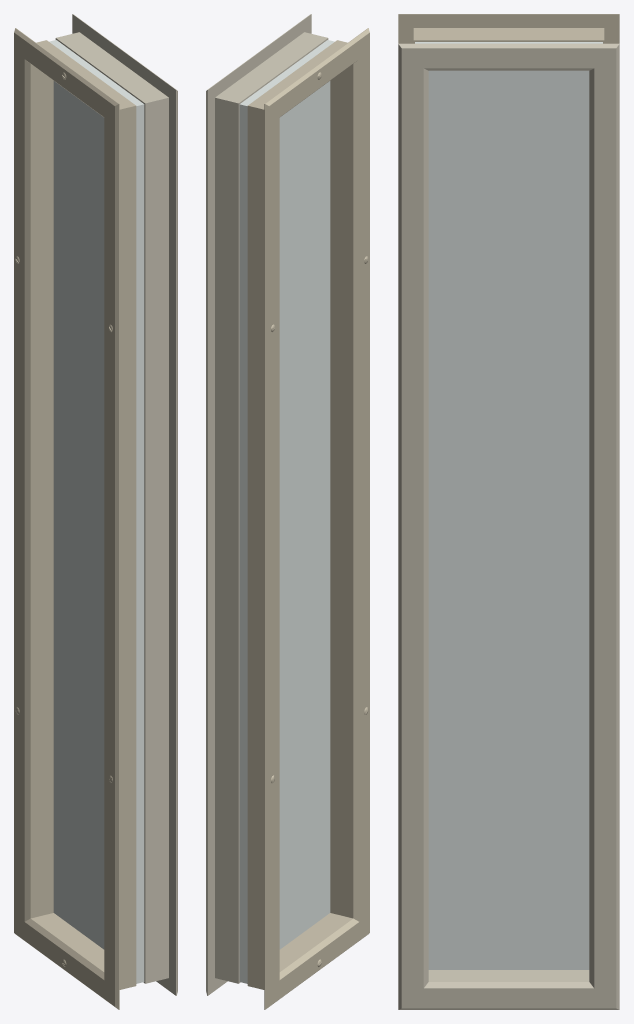
The model's file is Kit_DoorLite_Exit.fbx.
3 views of the same model, side by side, from view 1: azimuth 30°, elevation 25°; view 2: azimuth 150°, elevation 25°; view 3: azimuth 270°, elevation 25° (orthographic). The views are drawn at different scales.
Visible parts, largest first — view 1: Kit_DoorLite_Exit_LOD0; view 2: Kit_DoorLite_Exit_LOD0; view 3: Kit_DoorLite_Exit_LOD0.
Boxes of the visible parts, x1,y1,x2,y2 form: Kit_DoorLite_Exit_LOD0: (14,14,177,1009); Kit_DoorLite_Exit_LOD0: (206,14,369,1009); Kit_DoorLite_Exit_LOD0: (398,14,619,1009).
Size of what is drawn, in the model's own units: 0.0498 by 0.673 by 0.1396.
